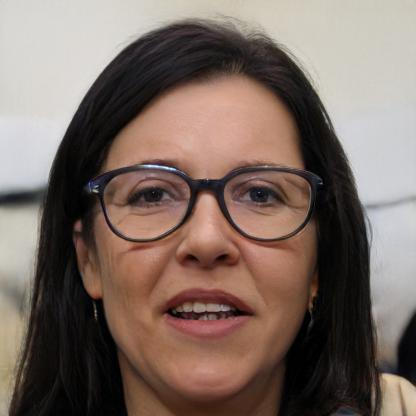glasses: (89, 156, 322, 249)
